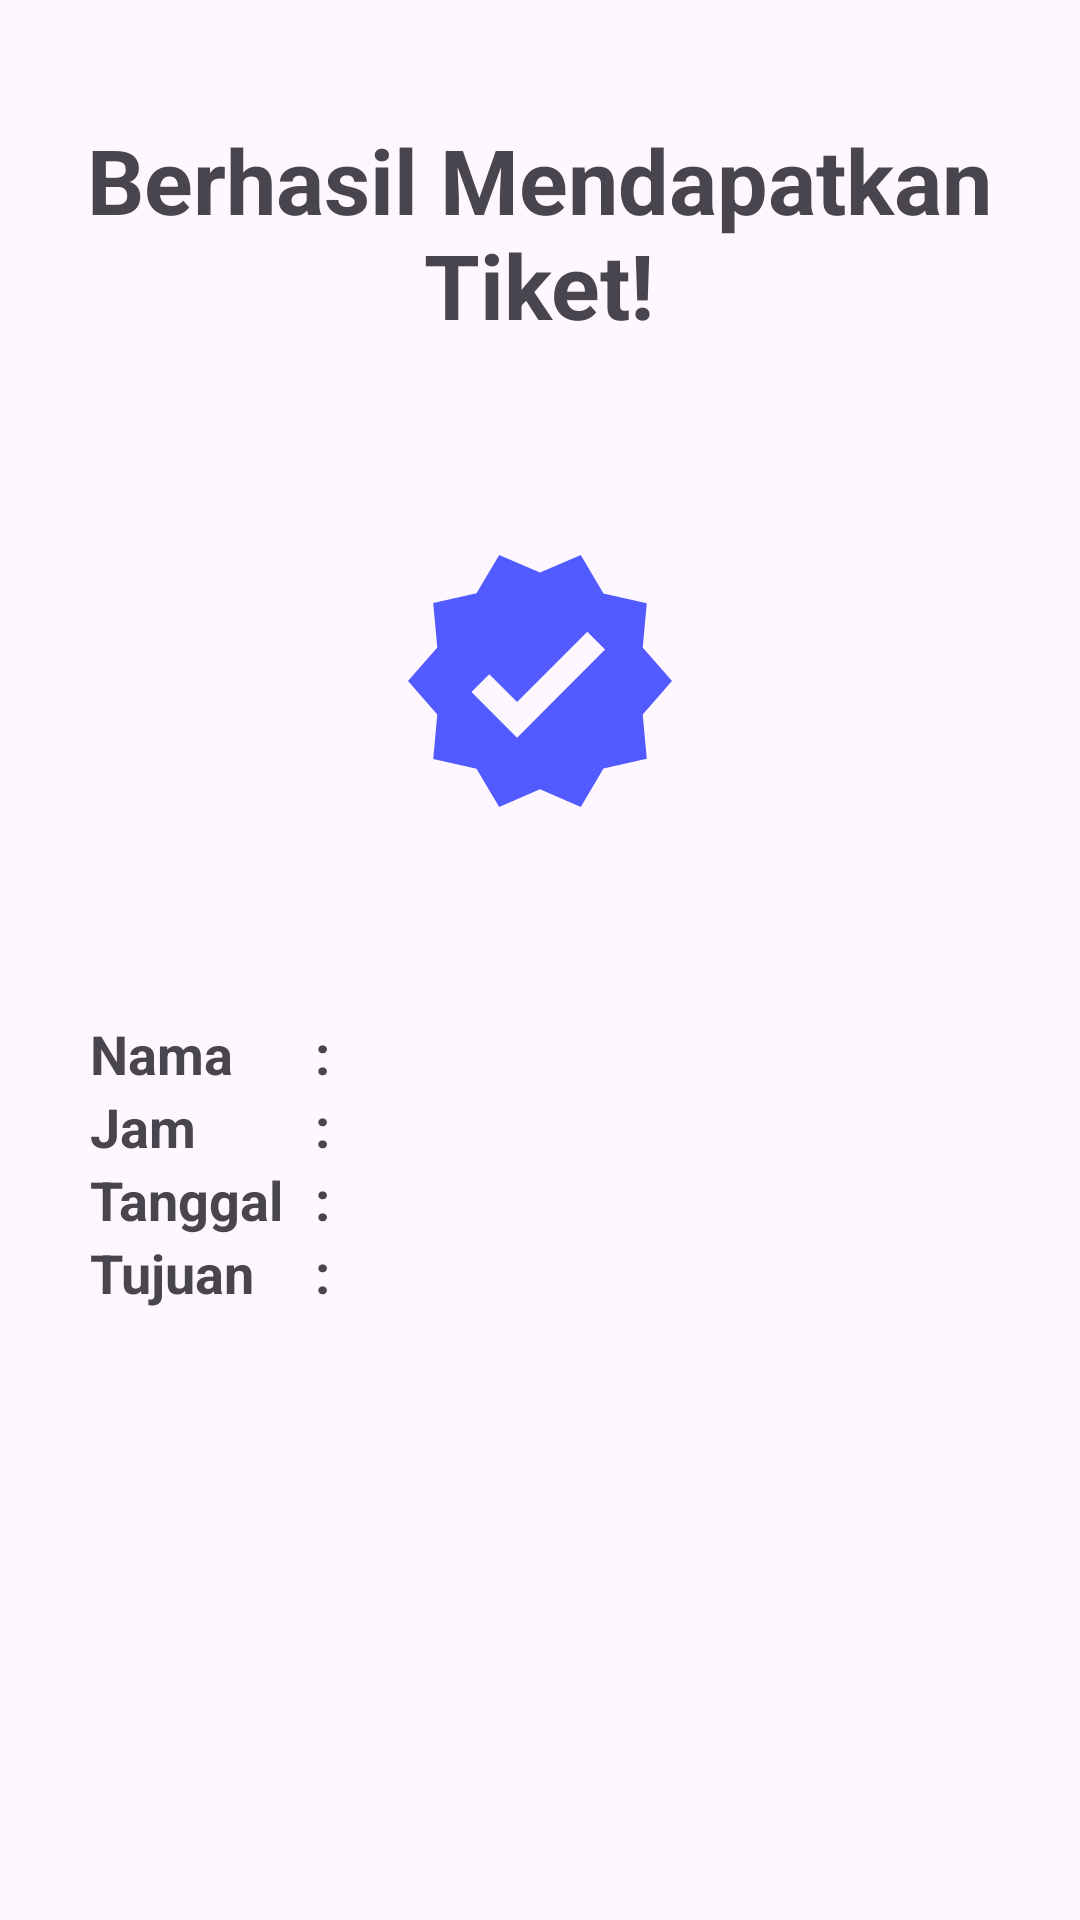

Locate icon controls on the screen. Image size 1080*1920, boxes as (x1, y1, x2, y2).
verified: (408, 555, 672, 807)
